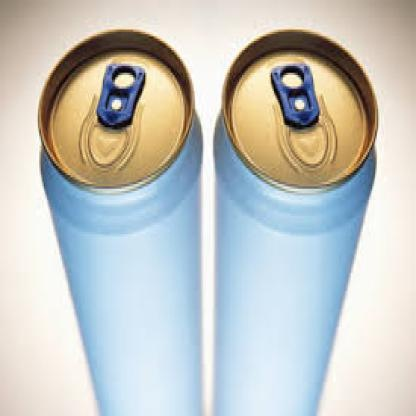trash: (39, 30, 201, 415), (215, 30, 376, 415)
